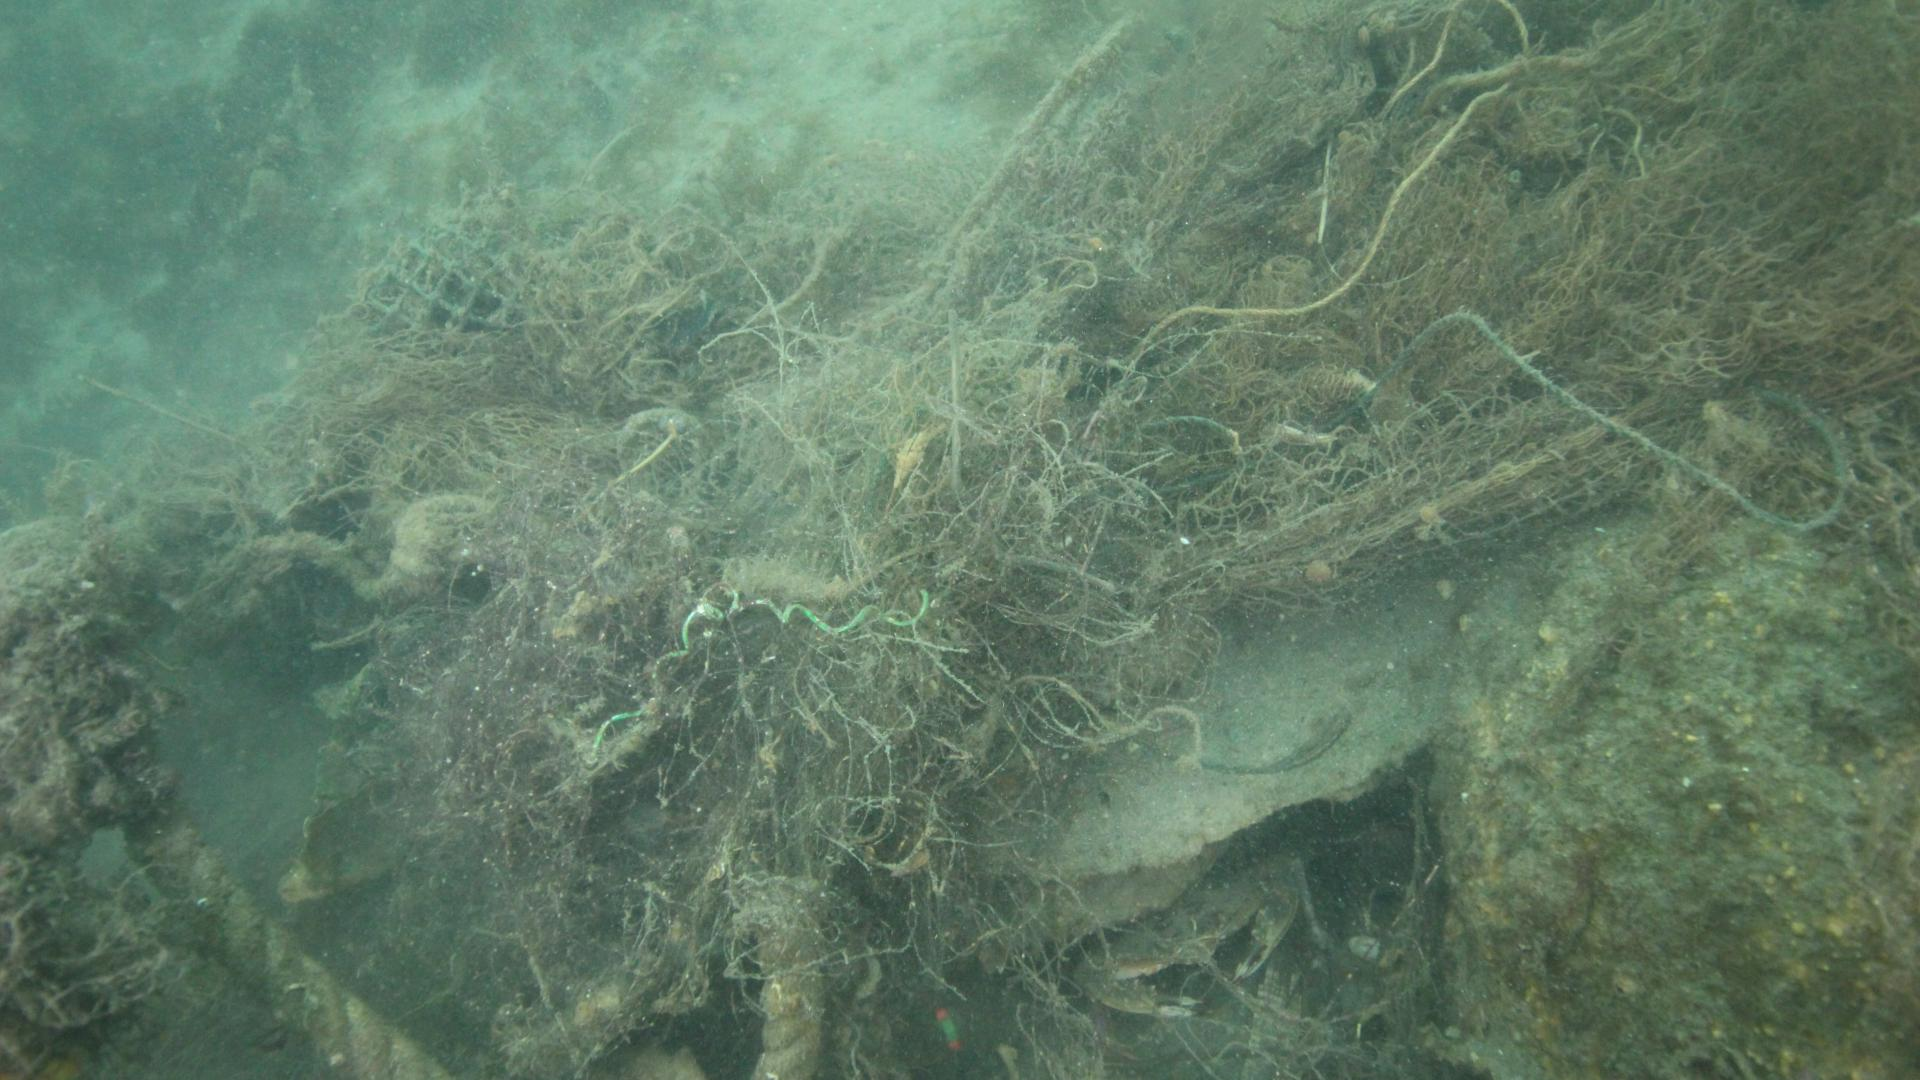fish net: (357, 214, 525, 334)
rope: (127, 804, 448, 1080), (750, 889, 818, 1080)
